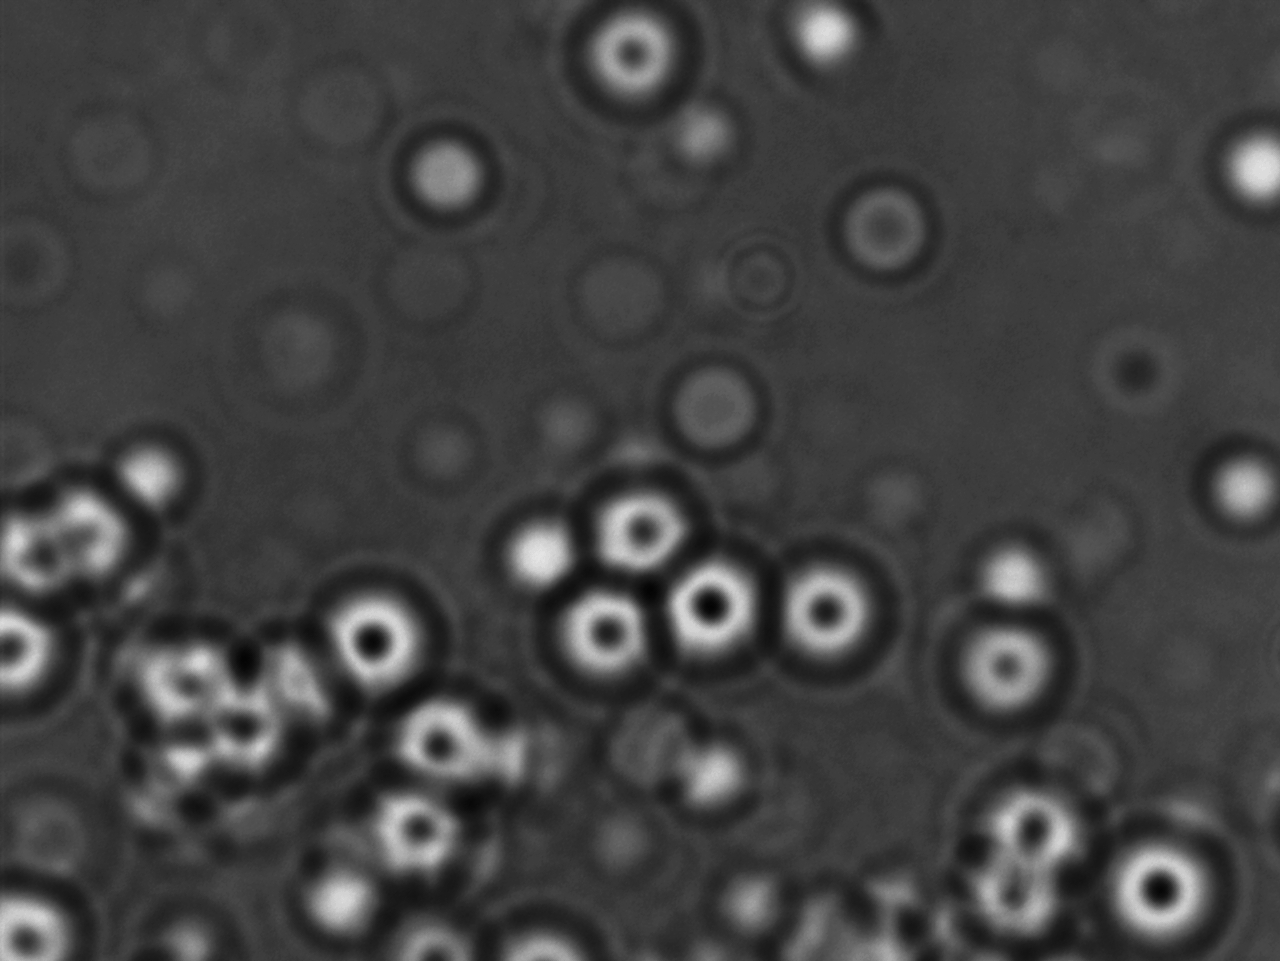depth:32: (1099, 822, 1241, 951), (763, 547, 897, 682), (376, 663, 509, 789), (572, 459, 698, 580), (650, 545, 771, 668), (536, 575, 657, 697), (318, 568, 434, 690)
